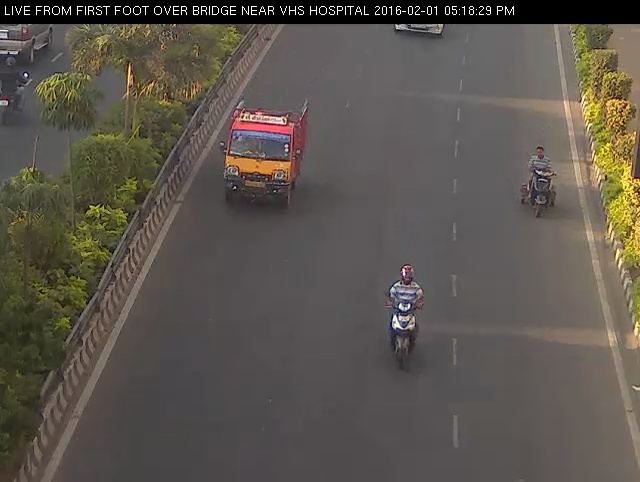Car: (213, 93, 323, 213), (387, 22, 454, 45)
Person: (380, 254, 431, 375), (514, 141, 568, 229)
